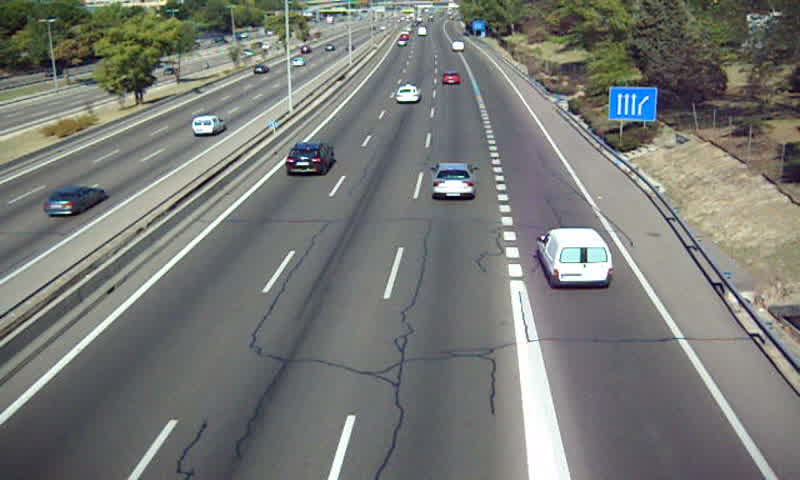car: (431, 162, 476, 199), (285, 142, 334, 175), (395, 85, 422, 104), (442, 71, 461, 86)
van: (537, 229, 615, 290)
